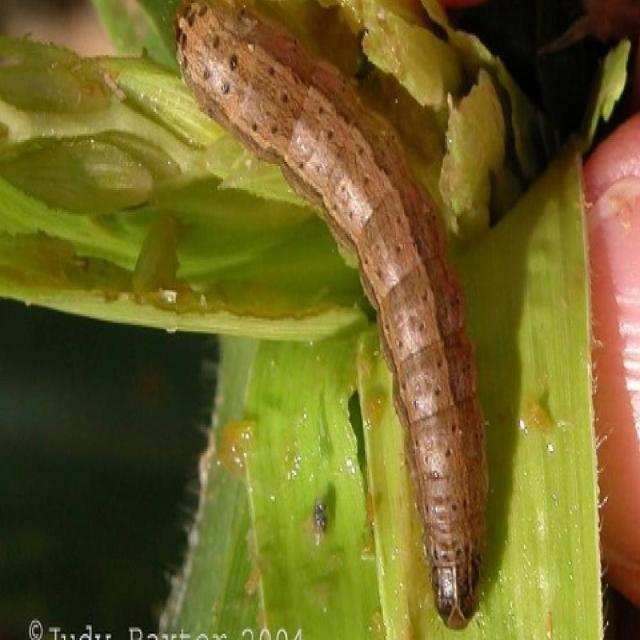yellow-stem-borer-larva: (156, 8, 519, 618)
